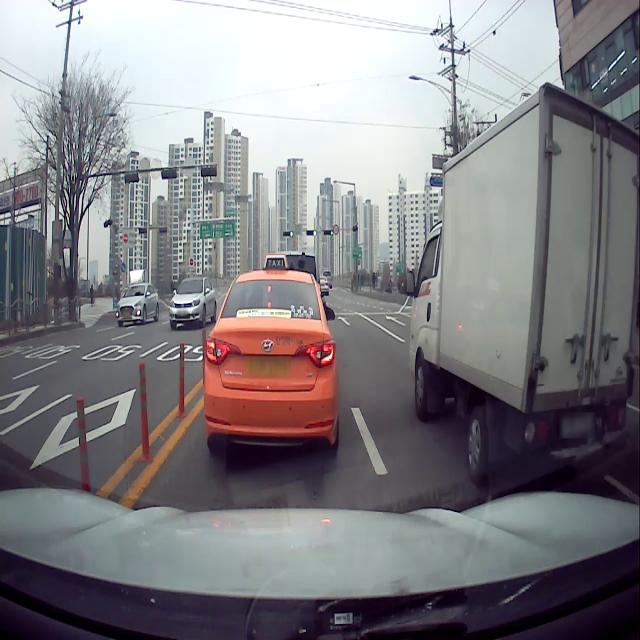Green Light: (290, 231, 293, 237), (313, 230, 316, 236), (330, 230, 333, 236)
